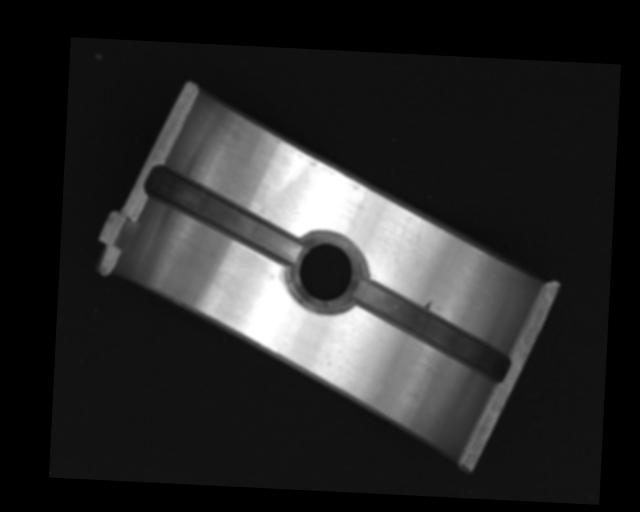bruise: (421, 298, 433, 310)
gap: (353, 278, 512, 382), (143, 165, 305, 264)
hole: (290, 231, 363, 311)
